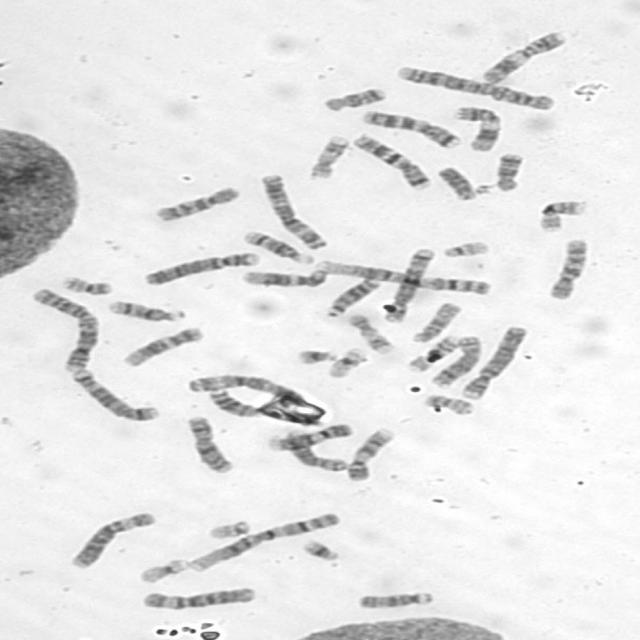A1: (183, 509, 343, 574), (309, 257, 495, 297)
A2: (394, 64, 558, 112), (26, 285, 100, 373)
A3: (257, 171, 330, 250), (184, 372, 303, 410)
B4: (456, 323, 530, 401), (139, 249, 261, 287)
B5: (66, 366, 162, 424), (380, 246, 436, 324)
C10: (152, 184, 241, 222), (544, 236, 592, 300)
C11: (478, 28, 569, 86), (448, 104, 504, 152)
C12: (119, 324, 205, 368), (237, 266, 330, 288)
C6: (65, 508, 157, 570), (139, 585, 258, 611)
C7: (347, 132, 434, 190), (358, 108, 464, 150)
C8: (424, 332, 483, 388), (279, 427, 349, 473)
C9: (343, 426, 396, 482), (263, 421, 355, 452)
D13: (323, 276, 383, 316), (205, 388, 278, 419)
D14: (237, 227, 316, 266), (104, 298, 188, 323)
D15: (407, 299, 462, 344), (355, 588, 437, 610)
E16: (402, 333, 462, 373), (536, 197, 587, 233)
E17: (345, 311, 396, 354), (306, 133, 351, 180)
E18: (320, 86, 386, 112), (492, 152, 526, 192)
F19: (134, 556, 192, 584), (323, 345, 369, 379)
F20: (421, 392, 476, 416), (57, 273, 114, 296)
G21: (298, 537, 342, 562), (293, 347, 339, 365)
G22: (203, 518, 252, 540), (439, 238, 492, 258)
X: (183, 413, 236, 474)
Y: (432, 163, 480, 201)
